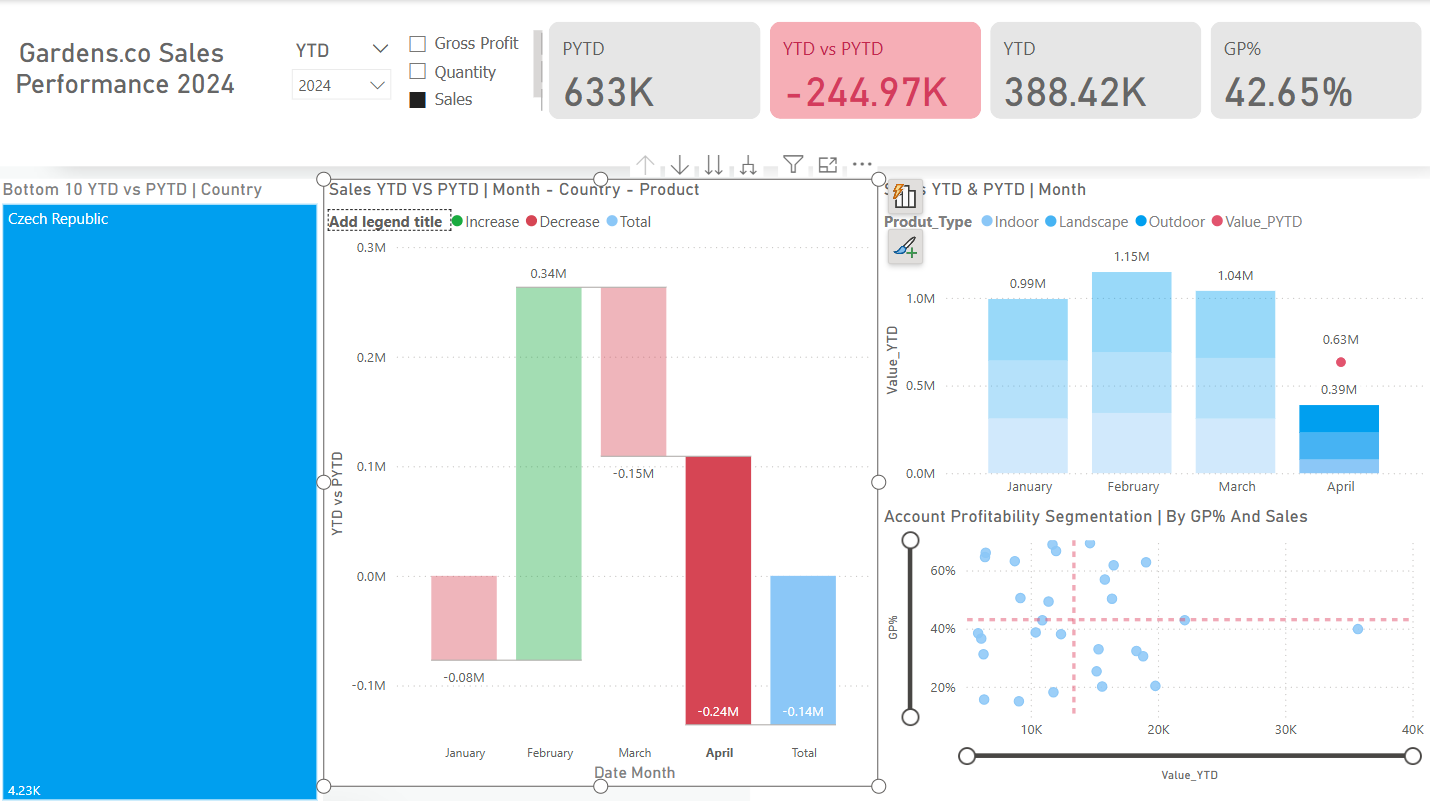

What the dashboard file says about the page in this screenshot:
{"tool":"powerbi","page":{"name":"Performance_report","canvas":[1280,720],"ordinal":0},"visuals":[{"type":"cardVisual","fields":{"Data":["formulas.sl_PYTD","formulas.YTD vs PYTD","formulas.sl_YTD","formulas.GP%"]},"box":[488,14.5,792.8,97.1],"z":0},{"type":"slicer","fields":{"Values":["slicer_values.Values"]},"box":[358.4,24.6,129.5,78.2],"z":1000},{"type":"slicer","fields":{"Values":["date_data.Date.Variation.Date Hierarchy.Year"]},"box":[254.6,31.3,103.8,64.8],"z":2000},{"type":"treemap","title":"Bottom 10 YTD vs PYTD | Country","fields":{"Values":["formulas.YTD vs PYTD"],"Group":["Accounts_data.country"]},"box":[0,159.7,291.4,560.5],"z":3000},{"type":"waterfallChart","fields":{"Y":["formulas.YTD vs PYTD"],"Category":["date_data.Date.Variation.Date Hierarchy.Month","Accounts_data.country","product_data.Produt_Type","product_data.Product_Name"]},"box":[291.8,159.4,495.3,543.1],"z":4000},{"type":"lineStackedColumnComboChart","fields":{"Y":["formulas.sl_YTD"],"Y2":["formulas.sl_PYTD"],"Category":["date_data.Date.Variation.Date Hierarchy.Month","date_data.Date.Variation.Date Hierarchy.Quarter"],"Series":["product_data.Produt_Type"]},"box":[787.1,159.4,492.9,293],"z":5000},{"type":"scatterChart","fields":{"Y":["formulas.GP%"],"X":["formulas.sl_YTD"],"Category":["Accounts_data.Account"]},"box":[787.4,452.3,492.3,250.6],"z":5001},{"type":"card","fields":{"Values":["formulas.Report_title"]},"box":[0,7.8,228.9,103.8],"z":5002}]}

Visuals, with their boxes in screenshot pixels (x1, y1, x2, y2), scaled from the page's 1280x720 canvas onto the 1430x801 screenshot:
cardVisual - formulas.sl_PYTD x formulas.YTD vs PYTD: x1=545, y1=16, x2=1429, y2=124
slicer - slicer_values.Values: x1=400, y1=27, x2=545, y2=114
slicer - date_data.Date.Variation.Date Hierarchy.Year: x1=284, y1=35, x2=400, y2=107
"Bottom 10 YTD vs PYTD | Country" treemap: x1=0, y1=178, x2=326, y2=800
waterfallChart - formulas.YTD vs PYTD x date_data.Date.Variation.Date Hierarchy.Month: x1=326, y1=177, x2=879, y2=782
lineStackedColumnComboChart - formulas.sl_YTD x formulas.sl_PYTD: x1=879, y1=177, x2=1429, y2=503
scatterChart - formulas.GP% x formulas.sl_YTD: x1=880, y1=503, x2=1429, y2=782
card - formulas.Report_title: x1=0, y1=9, x2=256, y2=124
